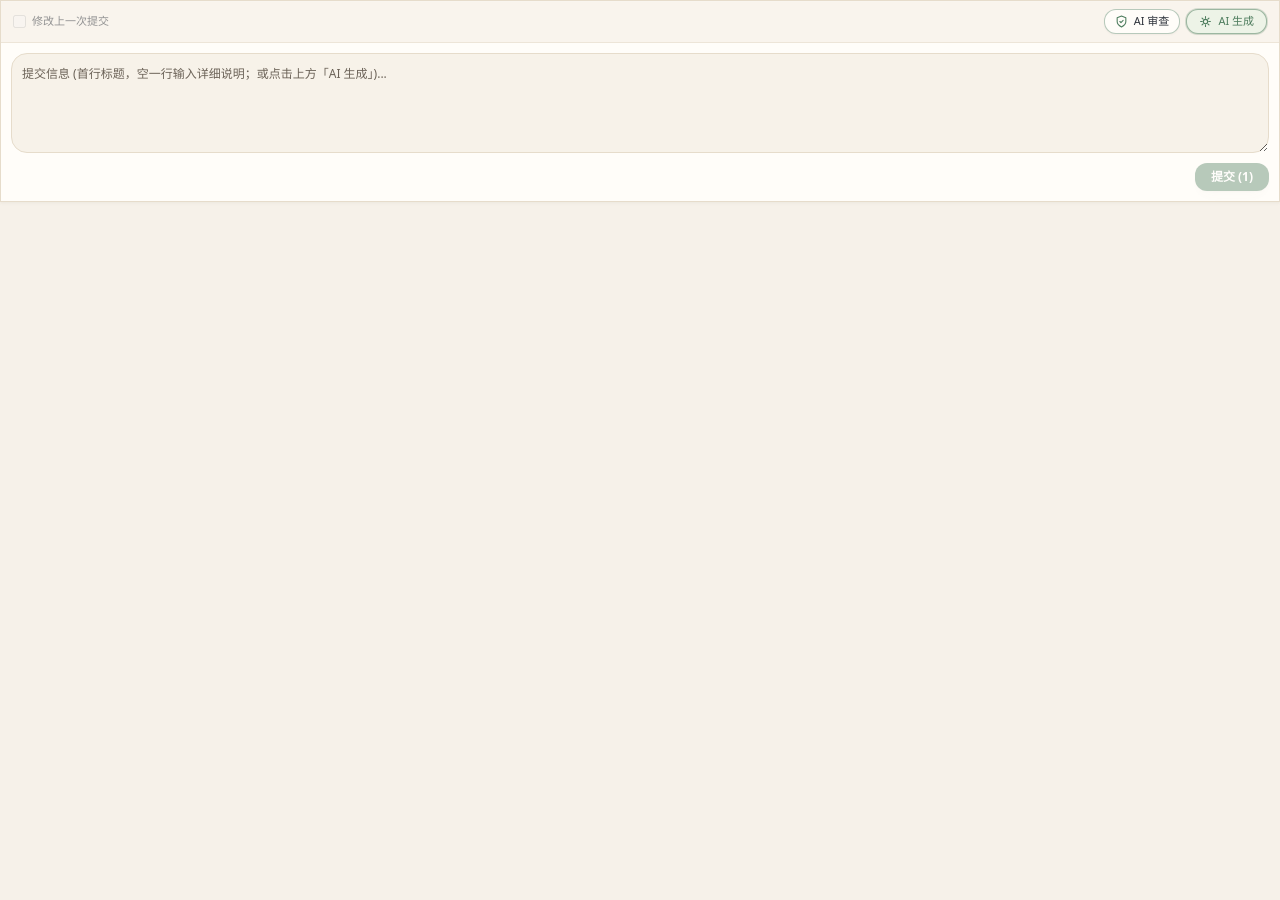
CommitPanel component › AT-07f: shows consent modal on first AI usage and executes upon consent
The image size is (1280, 900).
Click the button "AI 生成".
click(1227, 21)  # box [1186, 9, 1267, 34]
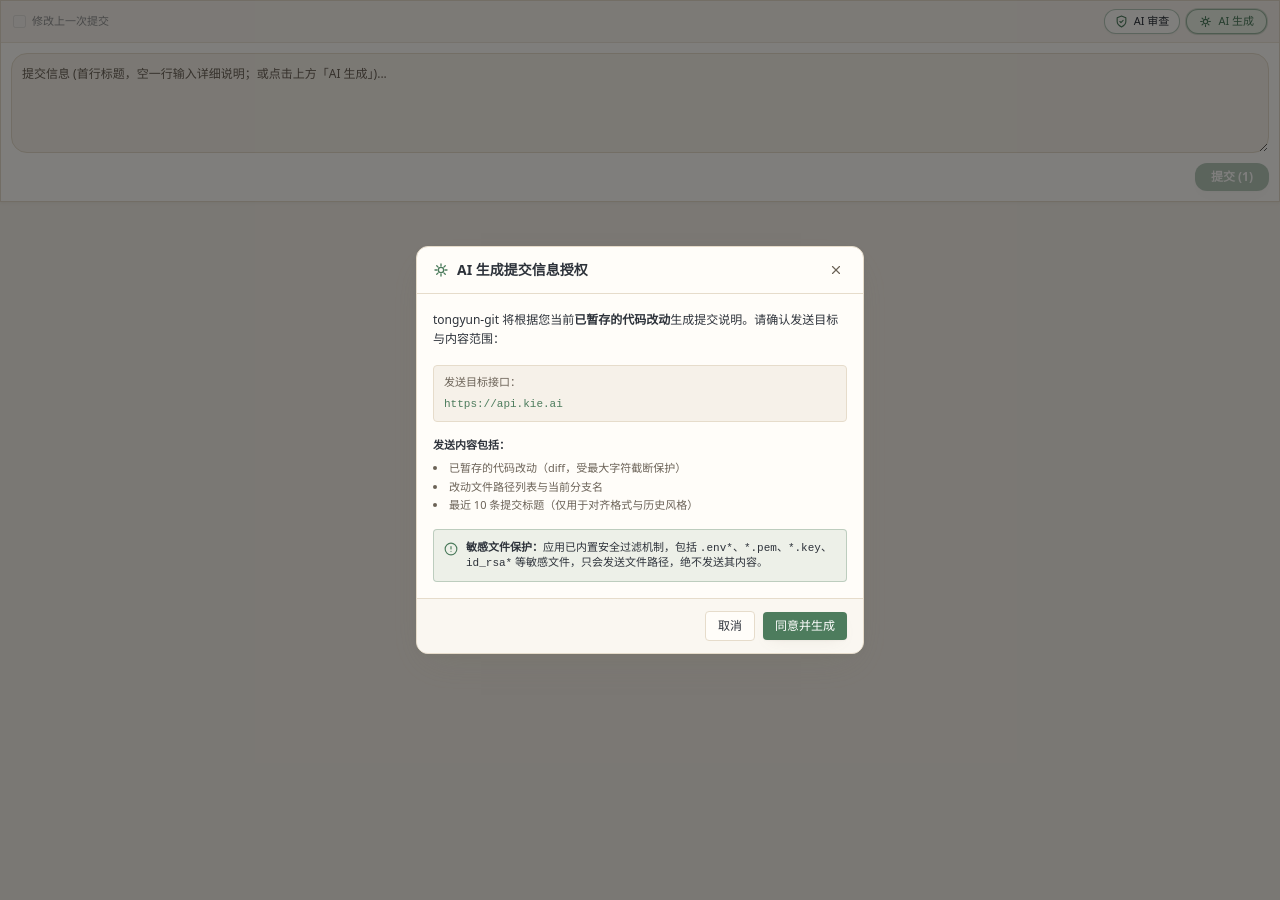
Check: the text "AI 生成提交信息授权" is shown, box [457, 260, 588, 280]
Check: the button "同意并生成" is shown
Click the button "同意并生成".
click(805, 626)  # box [763, 612, 847, 640]
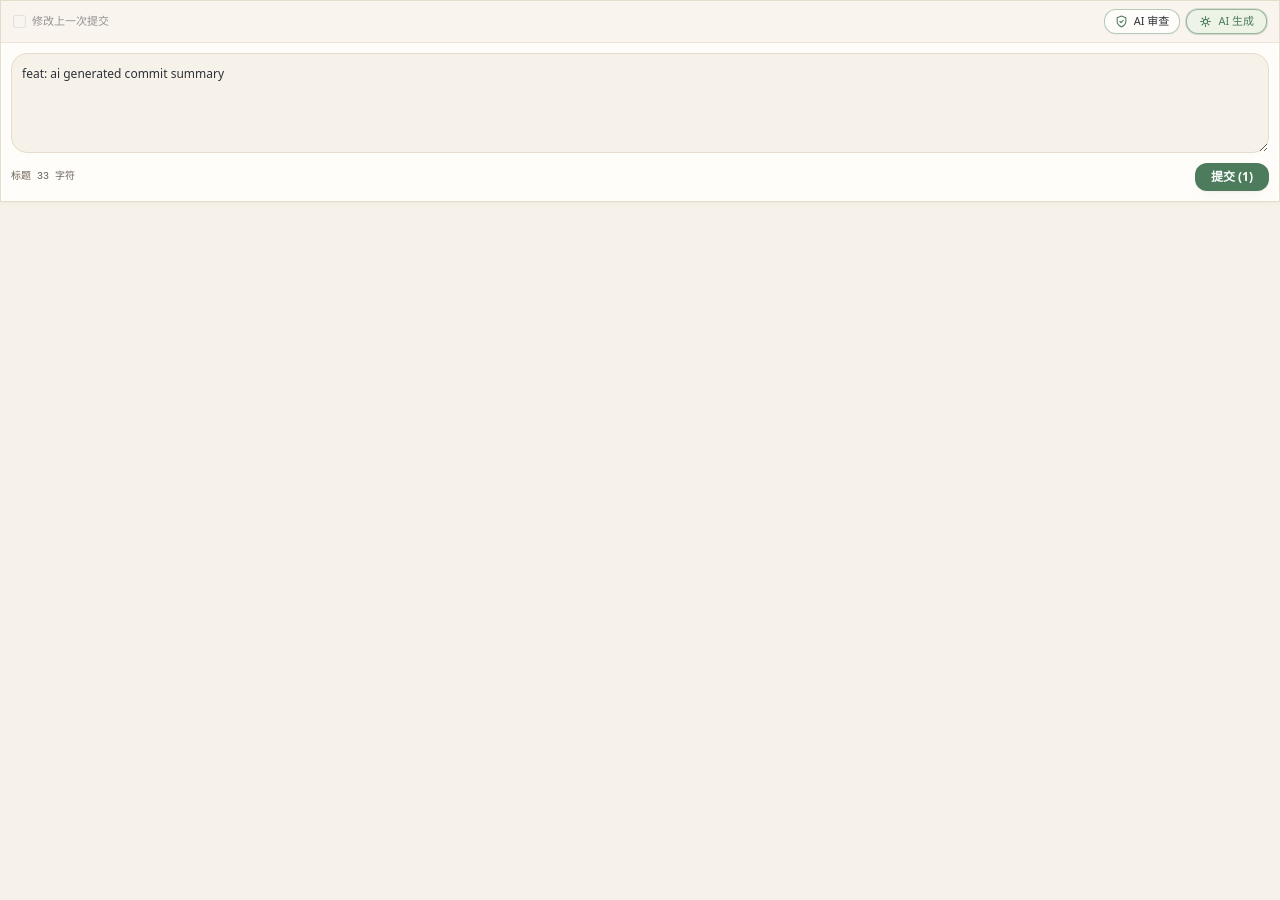
Check: the text box with placeholder "提交信息 (首行标题，空一行输入详细说明；或点击上方「AI 生成」)..." holds "feat: ai generated commit summary", box [11, 53, 1269, 153]
